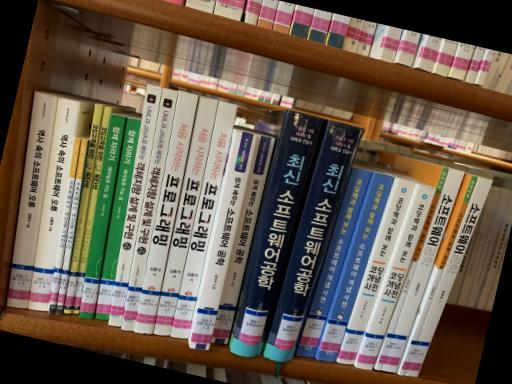book-spine: (263, 120, 364, 361), (230, 111, 327, 357), (404, 177, 492, 376), (380, 168, 464, 373), (170, 101, 237, 339), (134, 90, 198, 334), (153, 96, 218, 336), (399, 176, 477, 375), (354, 184, 436, 370), (373, 167, 448, 370), (189, 130, 258, 350), (335, 179, 415, 364), (316, 173, 394, 361), (295, 168, 371, 357), (120, 87, 177, 331), (211, 135, 275, 344), (108, 85, 162, 327), (27, 97, 80, 311), (5, 91, 57, 308), (79, 114, 125, 318), (95, 118, 140, 321), (62, 104, 104, 313), (71, 106, 110, 314), (48, 137, 81, 314), (55, 139, 87, 314)
